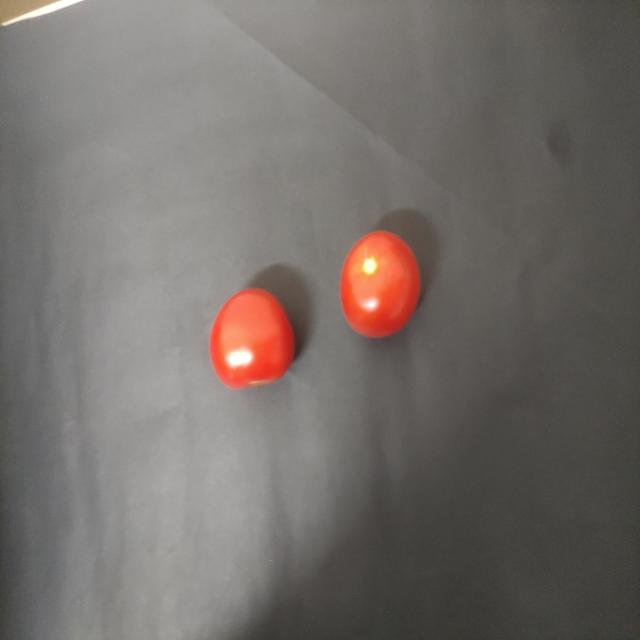kirmizi: (335, 199, 428, 360), (203, 273, 304, 405)
